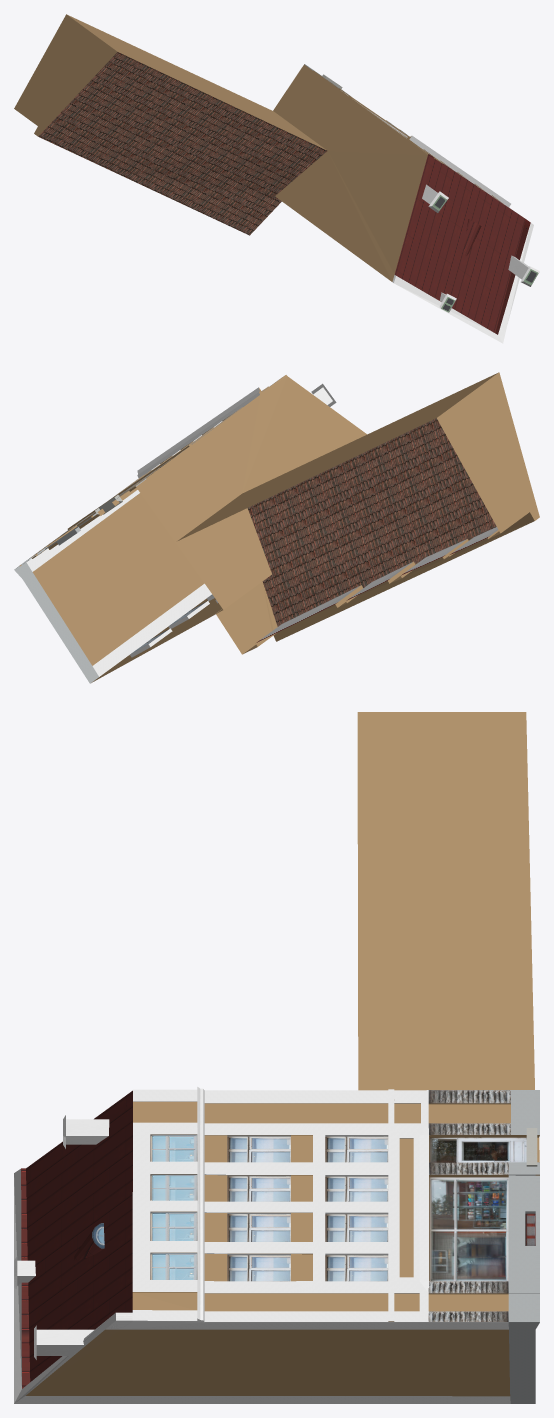
The model's file is Vana-Posti_4.obj.
The picture shows the model from 3 angles, top to bottom: view 1: azimuth 30°, elevation 25°; view 2: azimuth 150°, elevation 25°; view 3: azimuth 270°, elevation 25°; orthographic projection. The views are drawn at different scales.
Visible parts, largest first — view 1: vana_posti_4; view 2: vana_posti_4; view 3: vana_posti_4.
Part boxes in pixels (<box>): vana_posti_4: <box>14,14,539,343</box>; vana_posti_4: <box>14,372,539,683</box>; vana_posti_4: <box>14,712,539,1403</box>.
Bounding box in the file's own units: 26.58 × 17.97 × 18.36.
